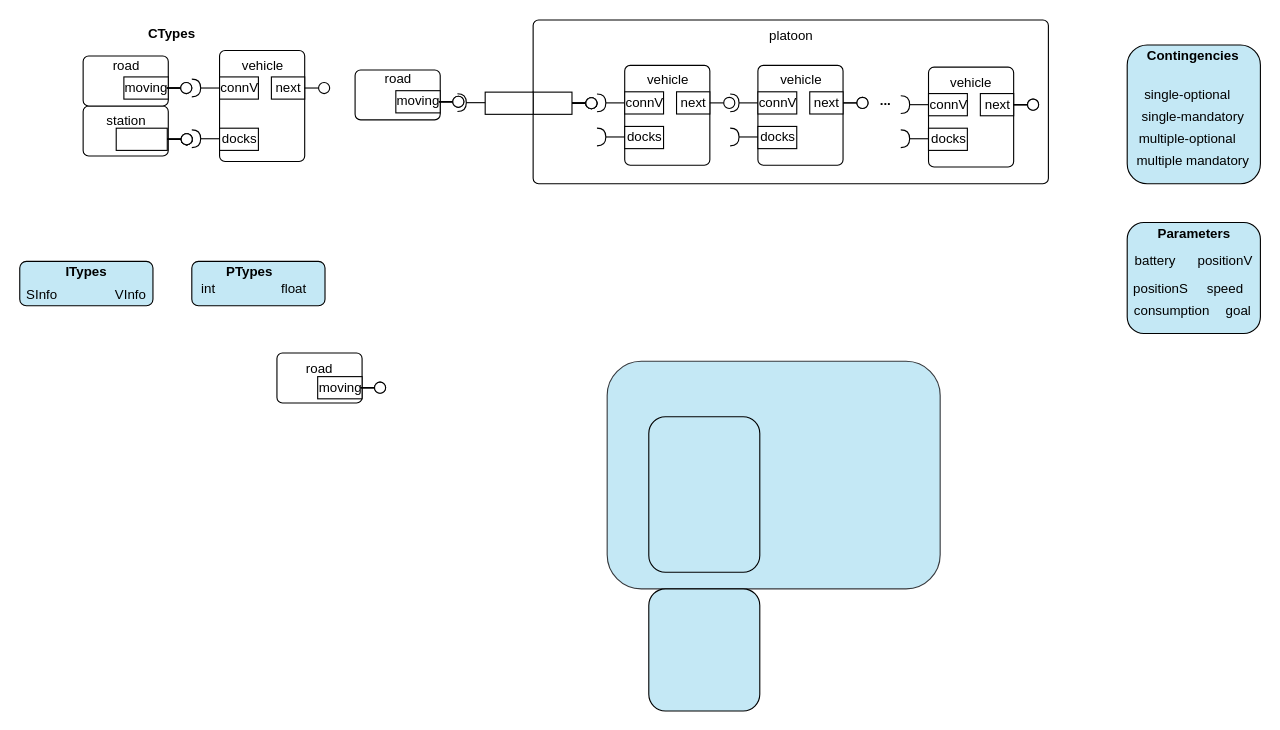
The diagram is 1280 pixels wide and 730 high, and some of its shapes have lost their labels. Each missing label, with the centre of its shape:
"IProvided" goes at pixel 704 649.
"IRequired" goes at pixel 704 494.
"leader" goes at pixel 552 102.
"offering" goes at pixel 508 102.
"refill" goes at pixel 141 138.
